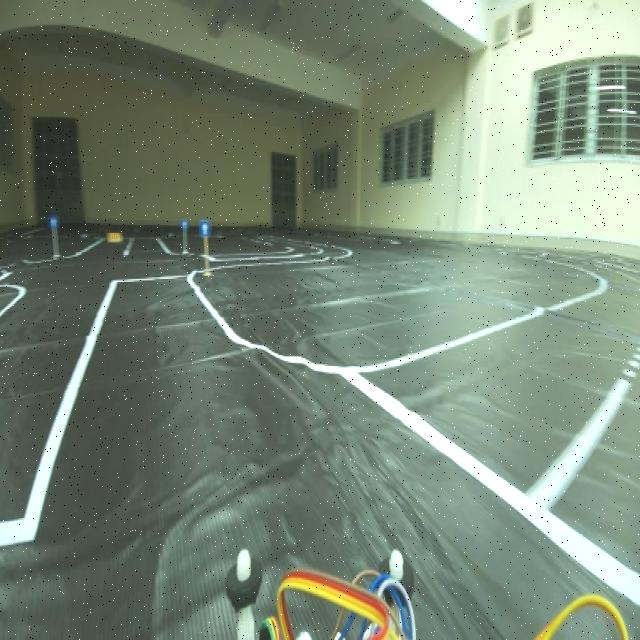onewayroad: (200, 212, 214, 239), (180, 212, 190, 236), (47, 215, 58, 229)
roadblock: (107, 224, 128, 248)
